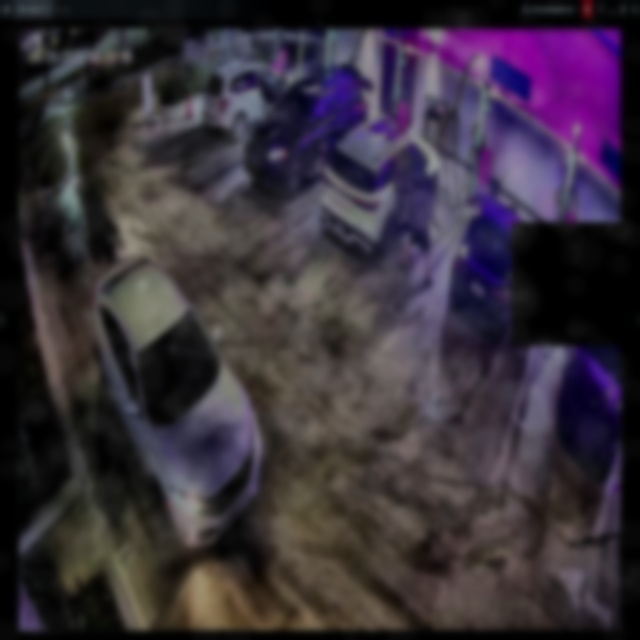Car: (88, 253, 263, 549), (323, 118, 441, 259), (243, 70, 368, 197), (449, 194, 528, 340)
